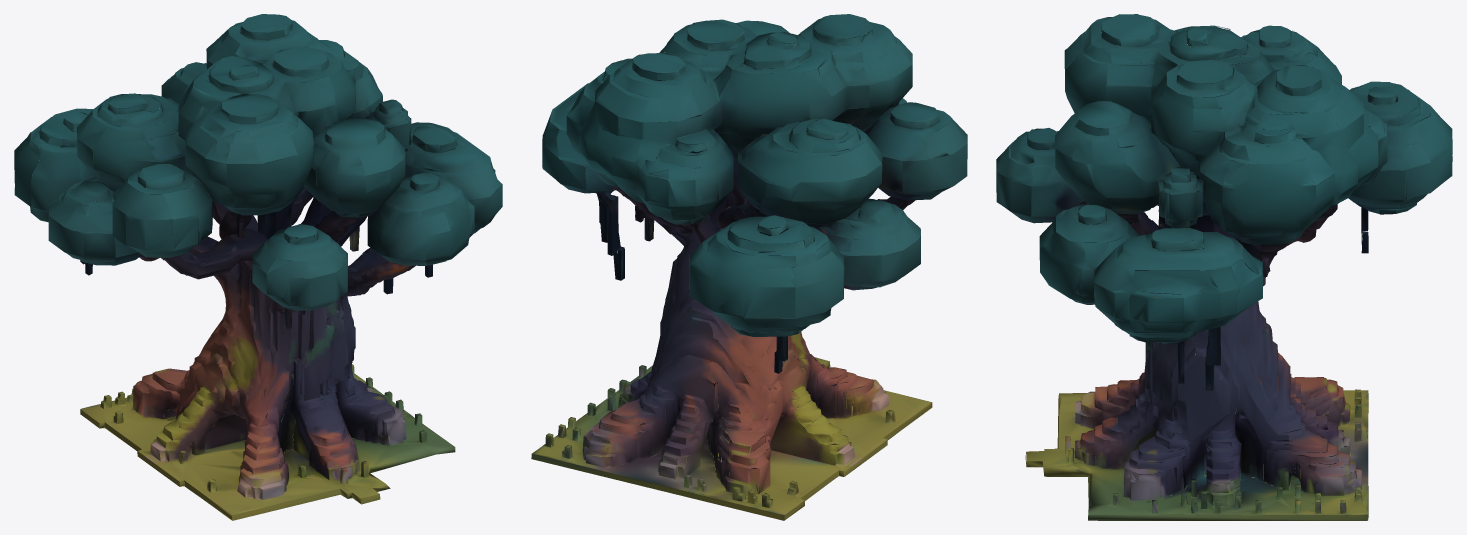
Rendered from ancient_tree_darkgreen.glb.
3 renders of one model, left to right at view 1: azimuth 30°, elevation 25°; view 2: azimuth 150°, elevation 25°; view 3: azimuth 270°, elevation 25°, orthographic. The views are drawn at different scales.
Visible parts, largest first — view 1: node_0; view 2: node_0; view 3: node_0.
Boxes of the visible parts, box(x1,y1,x2,y2) form: node_0: box(14, 14, 502, 520); node_0: box(531, 14, 967, 520); node_0: box(996, 14, 1452, 520).
Bounding box in the file's own units: 0.9059 × 0.8665 × 0.8836.
Materials: 1 (1 with a texture image).
